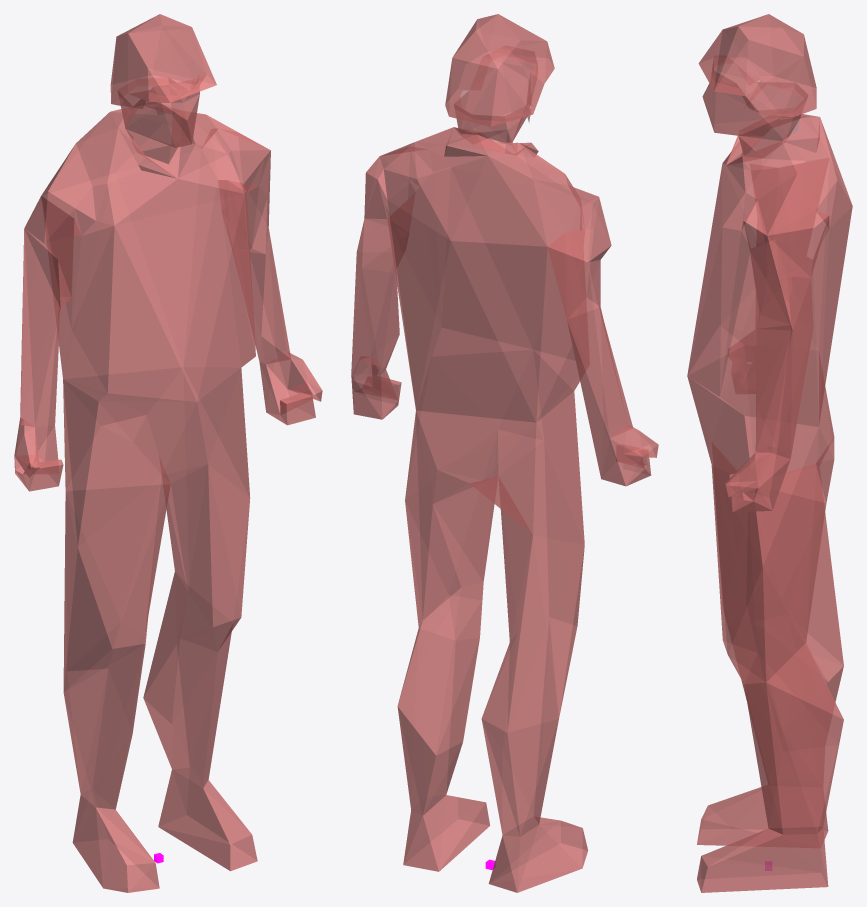
The model's file is 1_person.glb.
The picture shows the model from 3 angles, left to right: view 1: azimuth 30°, elevation 25°; view 2: azimuth 150°, elevation 25°; view 3: azimuth 270°, elevation 25°; orthographic projection.
Visible parts, largest first — view 1: 01 Mesh0; view 2: 01 Mesh0; view 3: 01 Mesh0.
Part boxes in pixels (x1,y1,x2,y2): 01 Mesh0: [14, 14, 322, 892]; 01 Mesh0: [351, 14, 658, 892]; 01 Mesh0: [687, 14, 852, 892].
Size of the model in its own units: 0.7044 by 1.93 by 0.3427.
